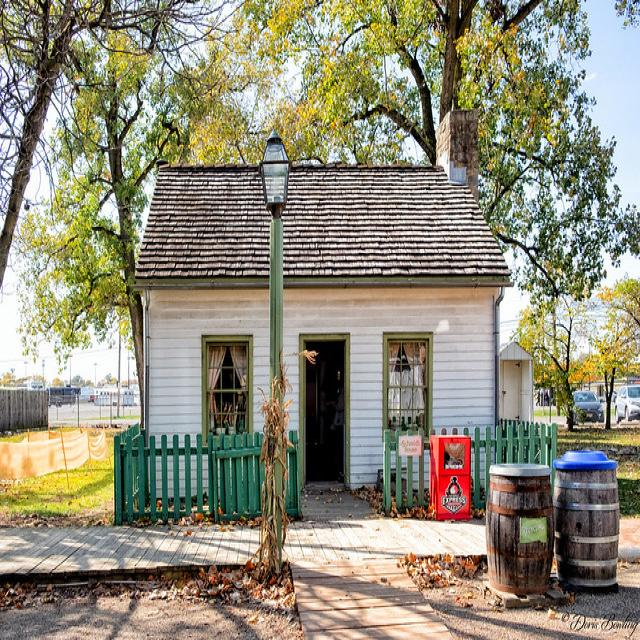Normal_building: (114, 158, 540, 523)
